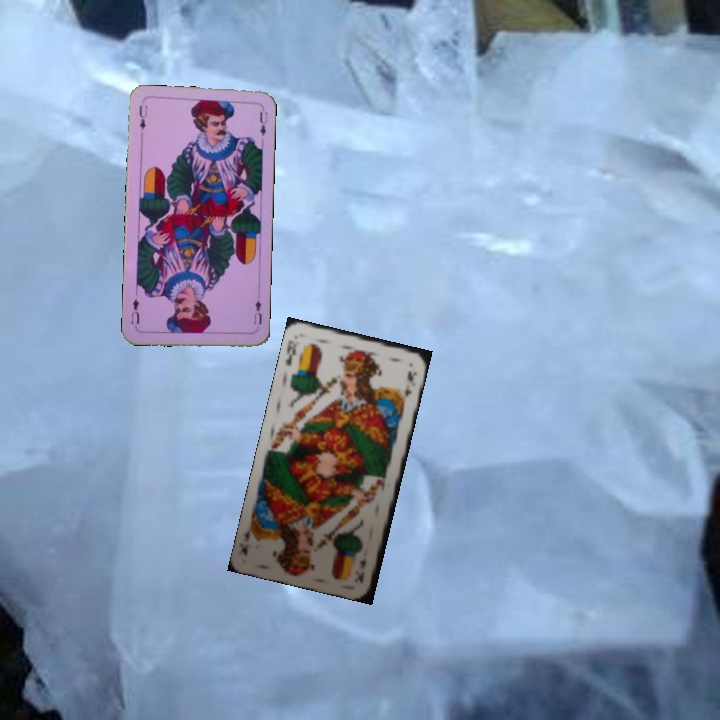EK: (282, 337, 299, 368), (352, 555, 369, 585)
EU: (250, 296, 264, 332), (135, 101, 150, 132)
